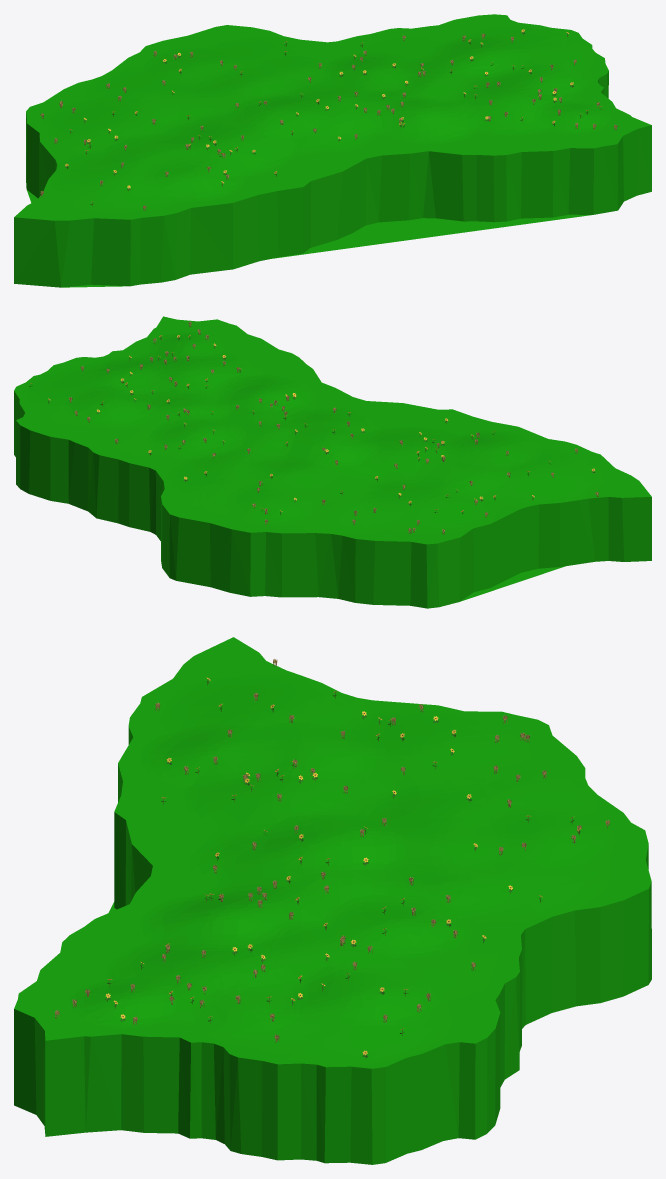
Rendered from PlainsLevelPart2.fbx.
The picture shows the model from 3 angles, top to bottom: view 1: azimuth 30°, elevation 25°; view 2: azimuth 150°, elevation 25°; view 3: azimuth 270°, elevation 25°; orthographic projection. The views are drawn at different scales.
Parts seen in each view (by area): view 1: Human_Plains_Part2_Level; view 2: Human_Plains_Part2_Level; view 3: Human_Plains_Part2_Level.
Boxes of the visible parts, x1=… form: Human_Plains_Part2_Level: x1=14, y1=14, x2=651, y2=287; Human_Plains_Part2_Level: x1=14, y1=316, x2=651, y2=608; Human_Plains_Part2_Level: x1=14, y1=637, x2=651, y2=1164.
Bounding box in the file's own units: 1927 × 1203 × 238.
